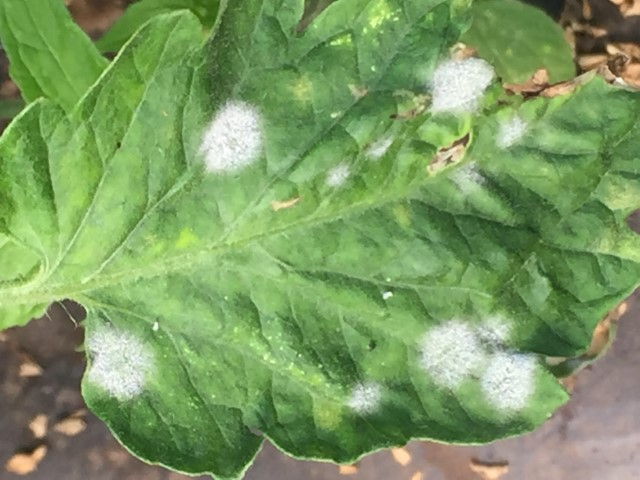oidio: (85, 328, 158, 401), (199, 99, 264, 175), (418, 316, 478, 393), (430, 56, 495, 116), (481, 348, 537, 417), (480, 311, 516, 346), (448, 159, 485, 192), (345, 381, 380, 413), (494, 115, 526, 148), (364, 134, 391, 160), (326, 162, 351, 185)
